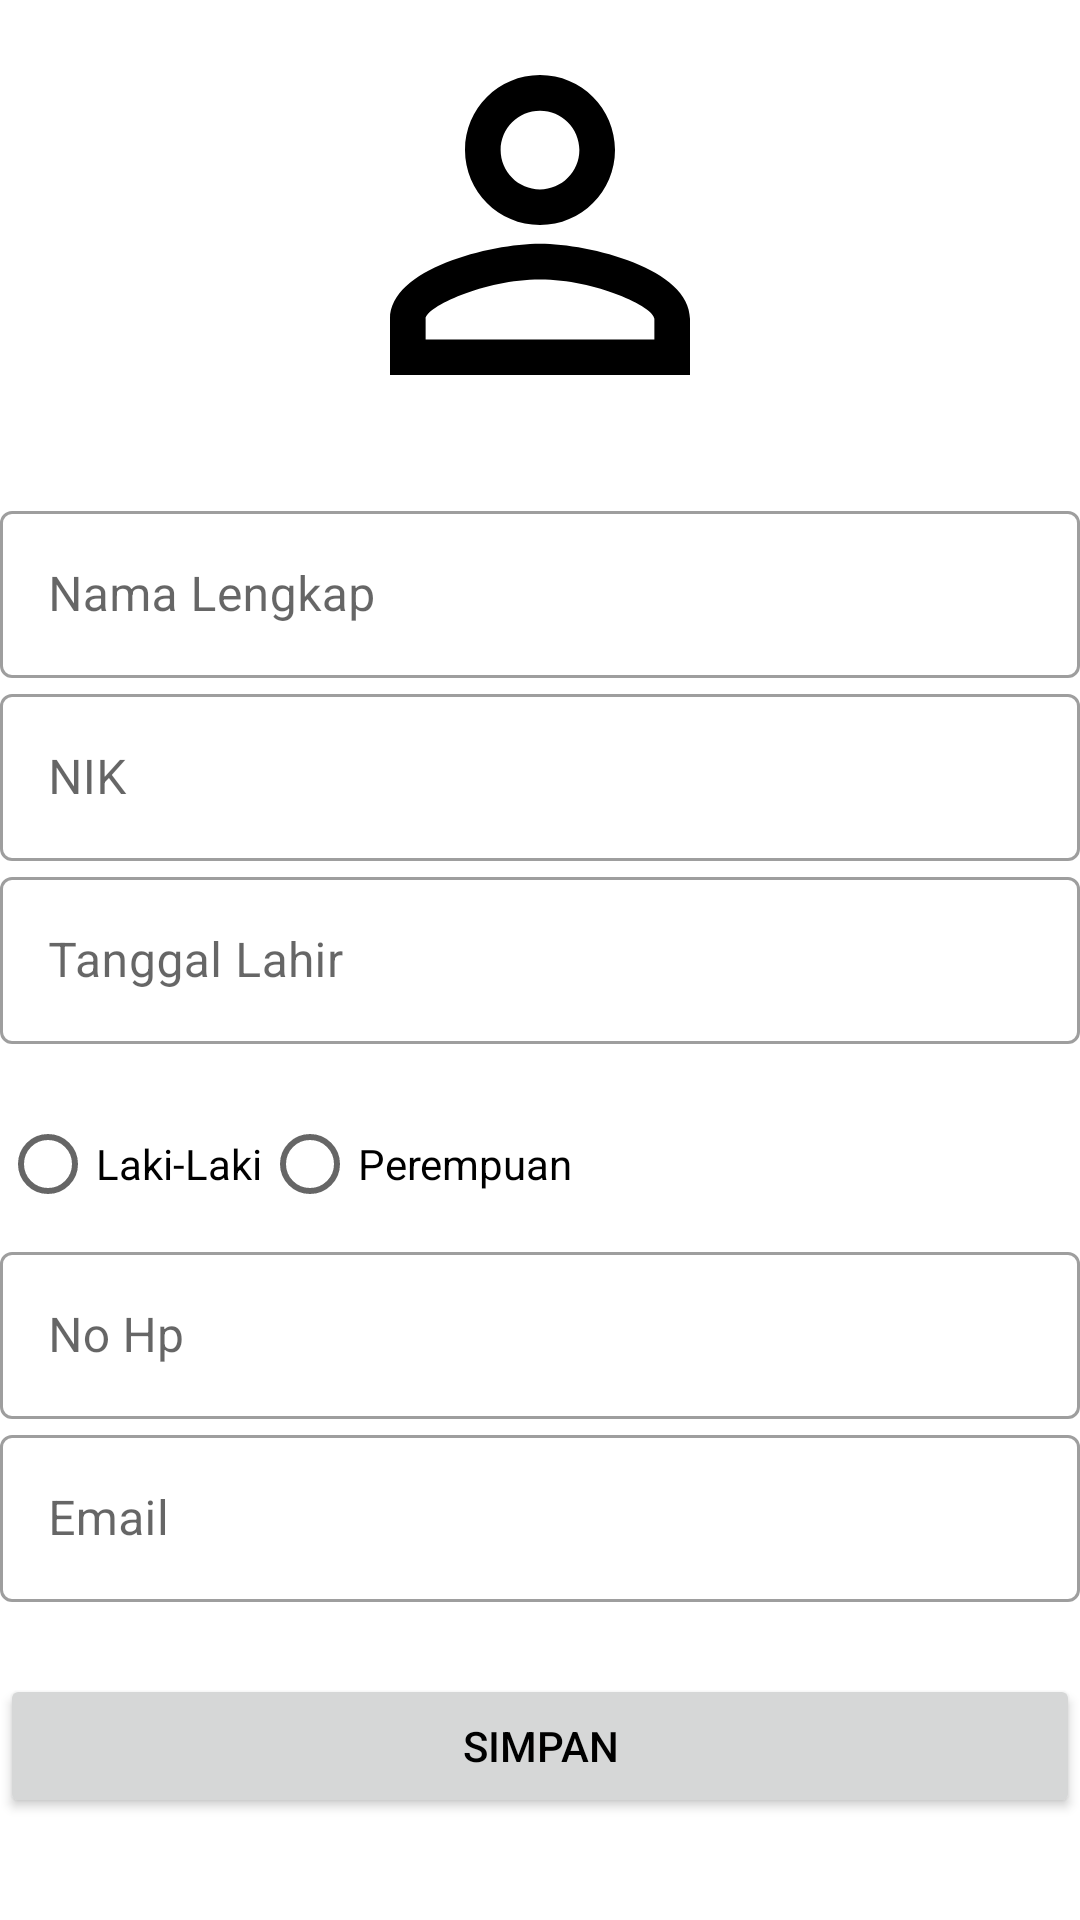

Icon bounding boxes for this 1080px x 1920px phone screenshot, format (x1, y1, x2, y2):
profile: (390, 75, 690, 375)
